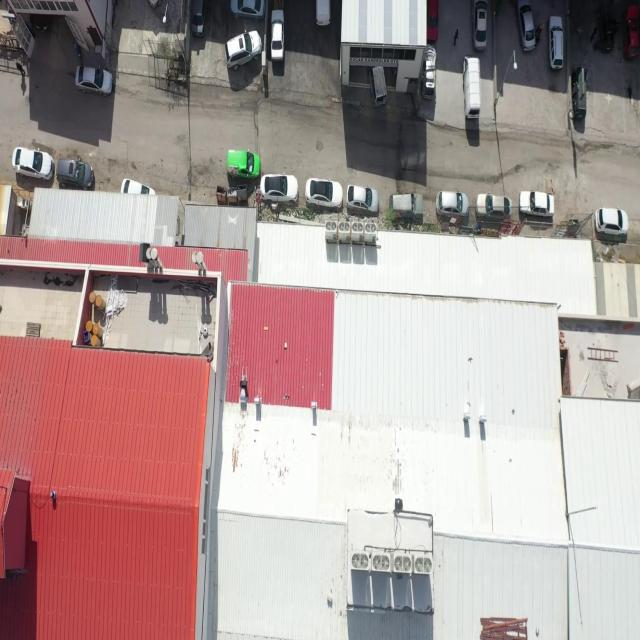p3rson: (16, 61, 26, 76), (73, 41, 81, 58), (590, 27, 598, 44), (535, 22, 544, 35), (454, 29, 458, 46), (536, 34, 540, 46)
